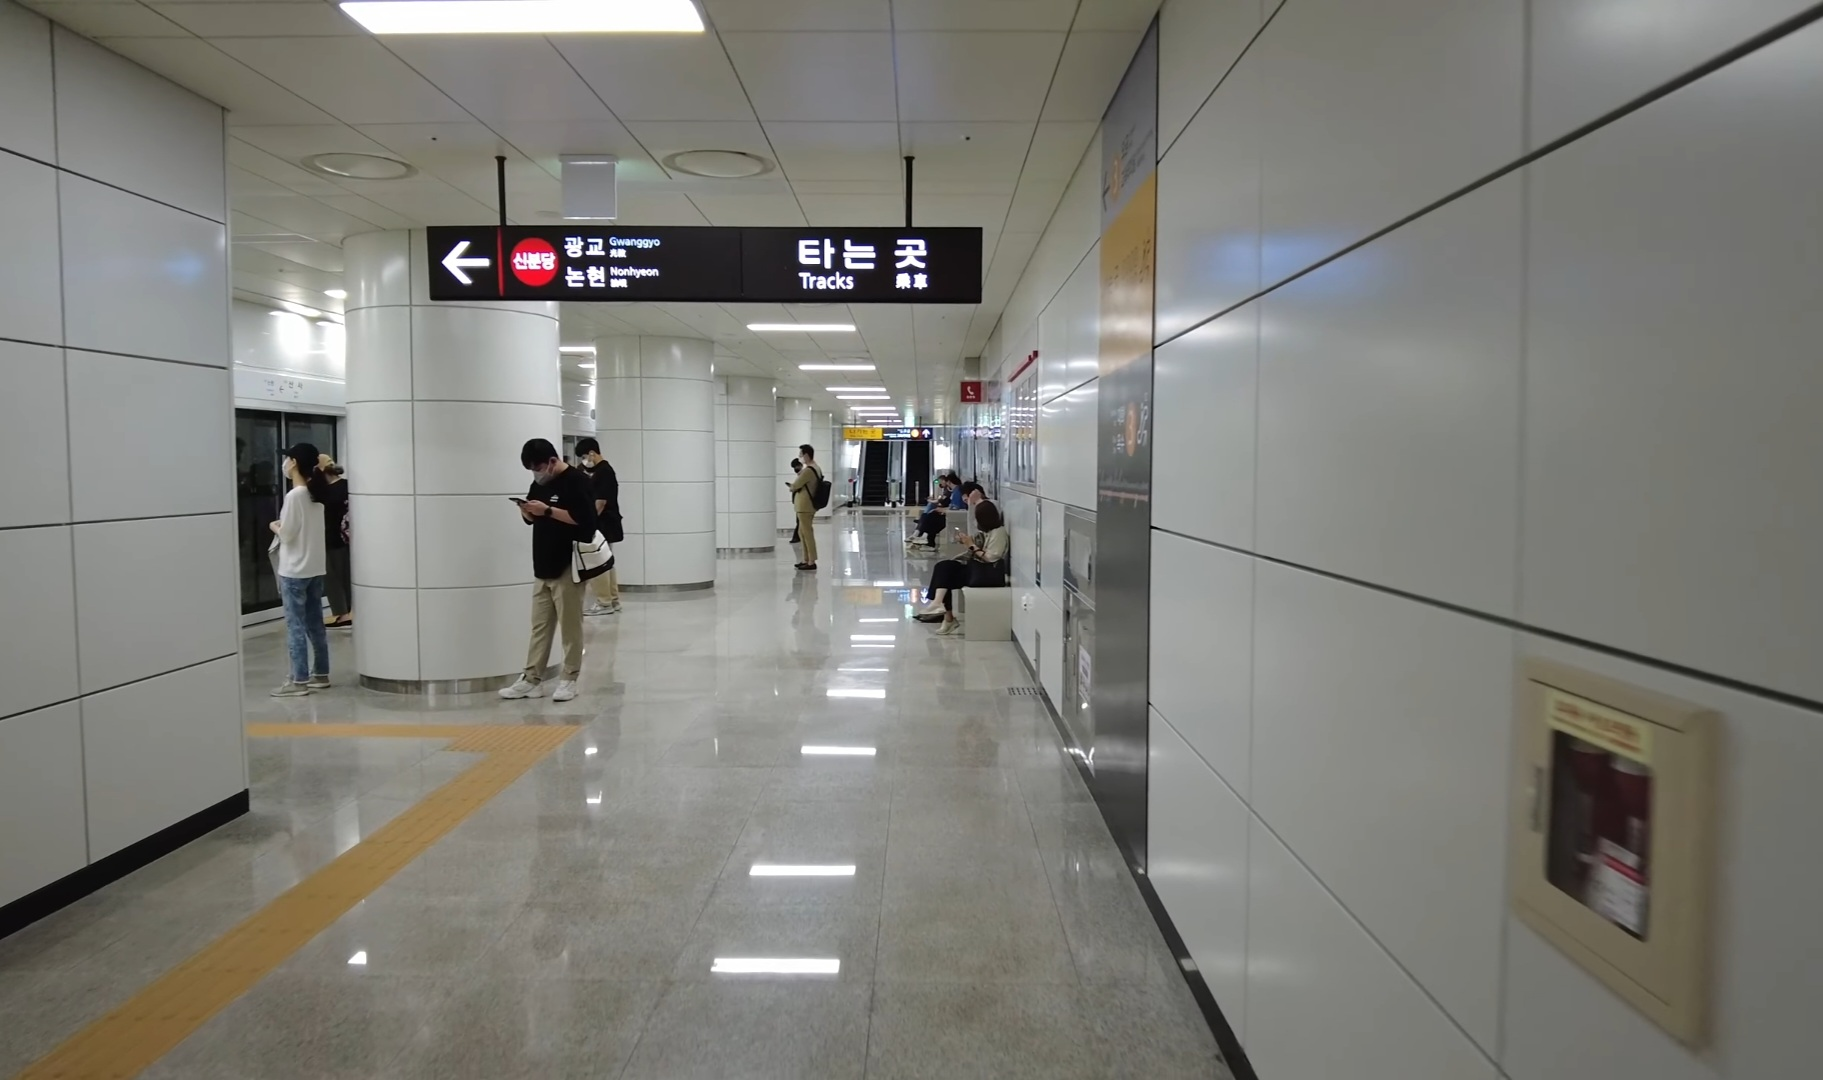signBoard: (419, 208, 992, 320)
